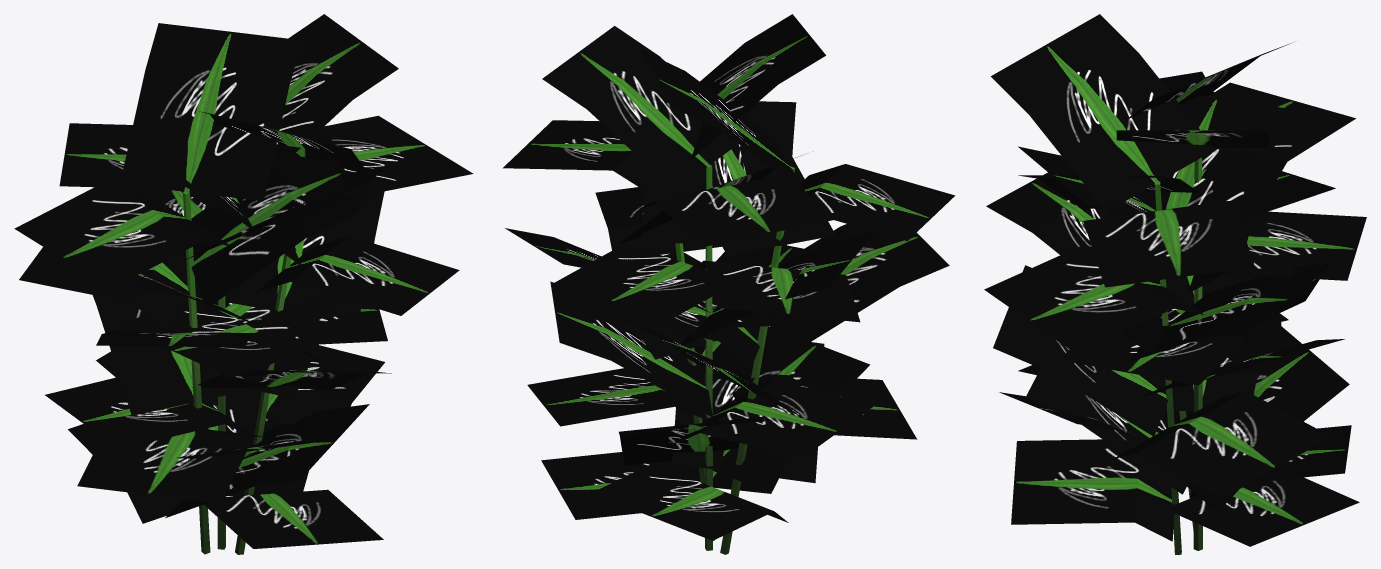
Rendered from planta gengibre HIGH.fbx.
3 renders of one model, left to right at view 1: azimuth 30°, elevation 25°; view 2: azimuth 150°, elevation 25°; view 3: azimuth 270°, elevation 25°, orthographic. The views are drawn at different scales.
Parts seen in each view (by area): view 1: Final.001, Final.002, Final; view 2: Final, Final.001, Final.002; view 3: Final.002, Final, Final.001.
Part boxes in pixels (left/top/right/bottom): Final.001: left=14, top=23, right=369, bottom=554; Final.002: left=96, top=111, right=473, bottom=554; Final: left=45, top=14, right=398, bottom=549; Final: left=541, top=26, right=875, bottom=550; Final.001: left=591, top=49, right=955, bottom=554; Final.002: left=503, top=14, right=825, bottom=540; Final.002: left=984, top=14, right=1349, bottom=554; Final: left=1018, top=82, right=1366, bottom=550; Final.001: left=986, top=42, right=1351, bottom=530.
Bounding box in the file's own units: 349 × 399 × 276.
